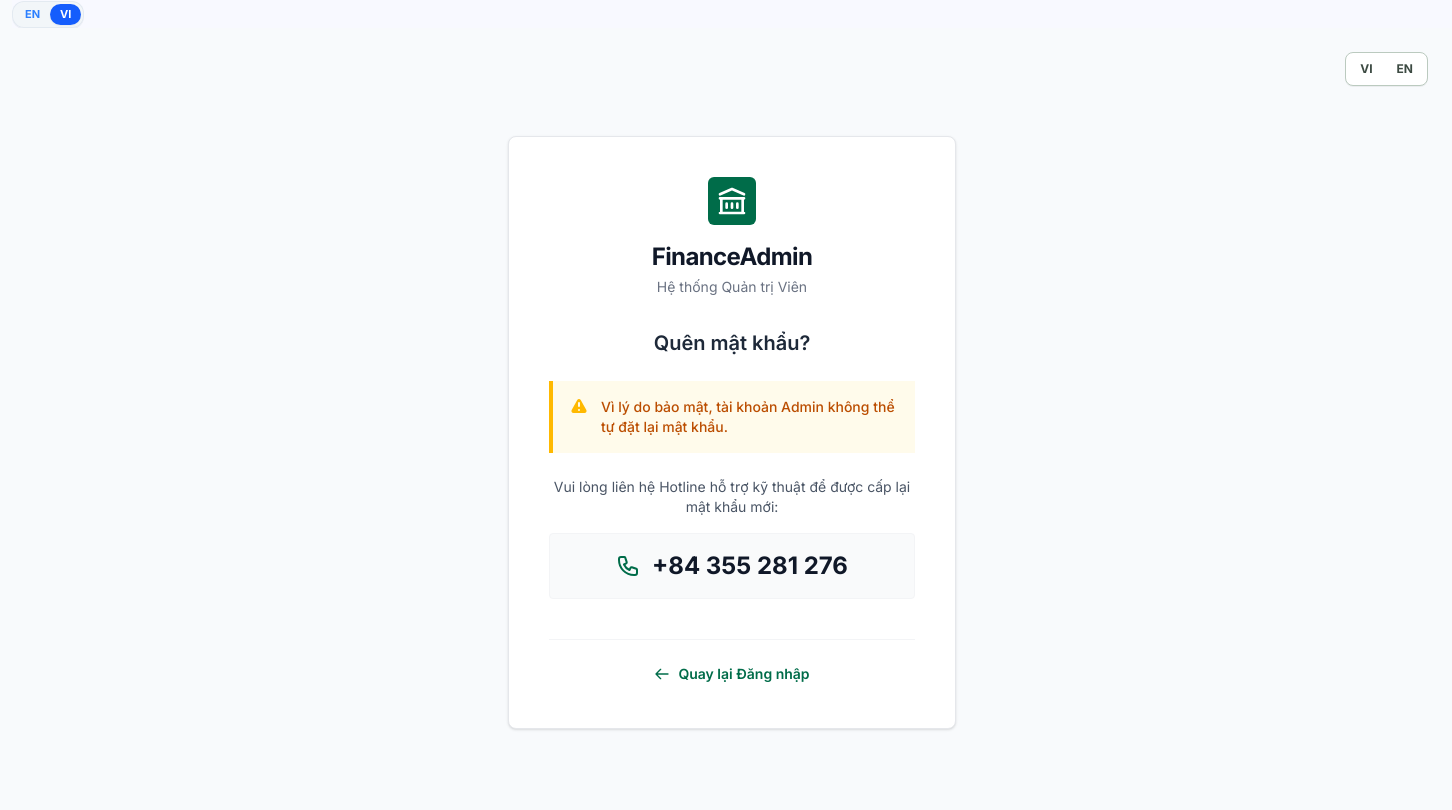
Test case: Admin-web Phase 3 i18n Suite — System & Operations Pages (2-Tier Testing) › 4. ForgotPasswordPage i18n Verification › 4.2. Tầng 2: Click nút switcher EN — Toàn bộ thông điệp cảnh báo và hướng dẫn chuyển sang tiếng Anh
Note: Click nút EN
Click the 1st button "EN".
click(33, 14)  # box [15,4,50,24]
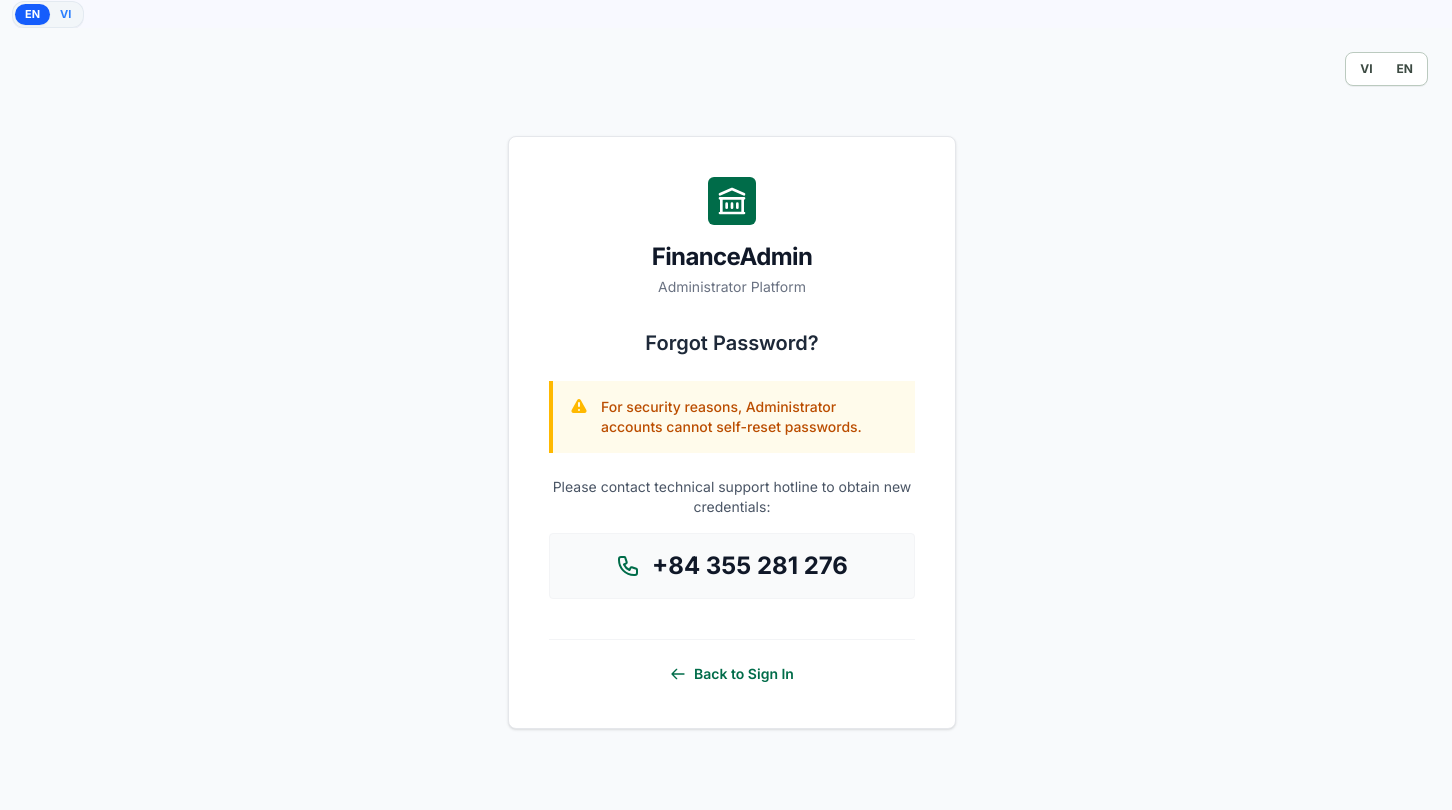
Now the heading "Forgot Password?" is shown, box [645,331,819,355]
Now the text "For security reasons, Administrator accounts cannot self-reset passwords" is shown, box [601,398,862,435]
Now the link "Back to Sign In" is shown, box [670,664,794,684]
